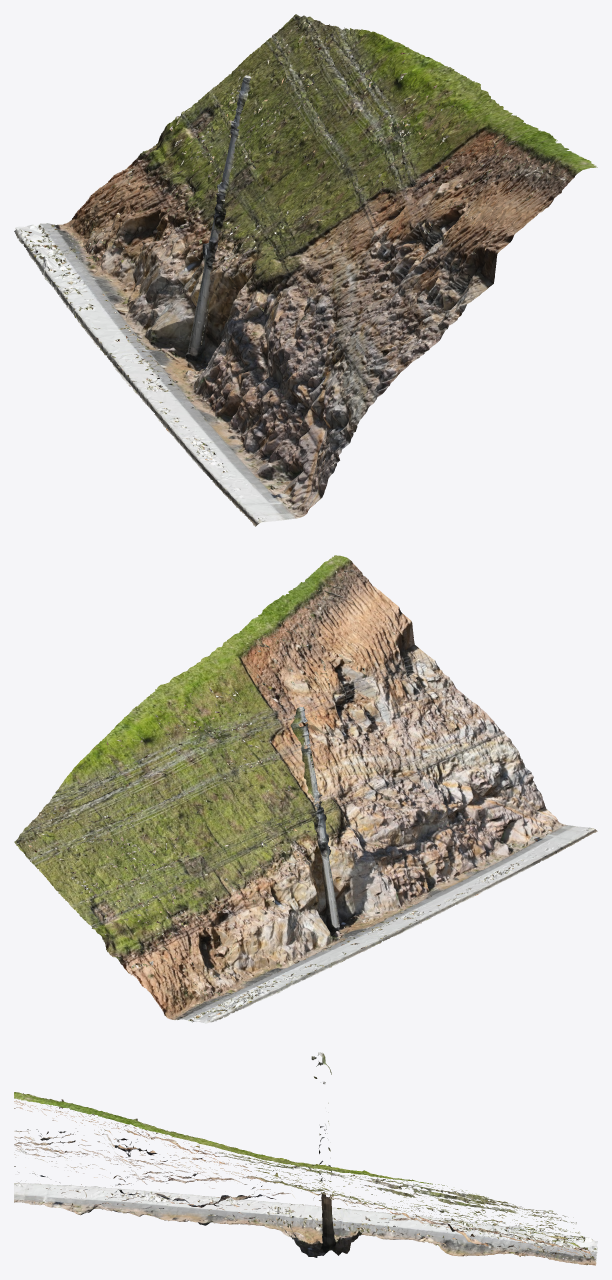
3 renders of one model, top to bottom at view 1: azimuth 30°, elevation 25°; view 2: azimuth 150°, elevation 25°; view 3: azimuth 270°, elevation 25°, orthographic. The views are drawn at different scales.
Bounding box in the file's own units: 16.66 × 11.81 × 27.04.
Materials: 2 (2 with a texture image).
